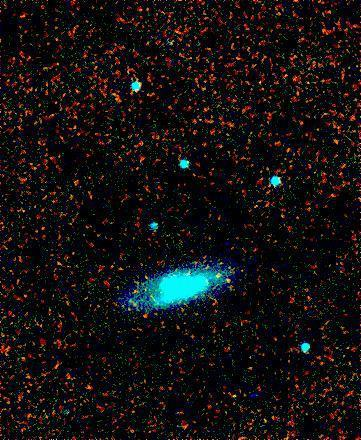star: (212, 265, 242, 295)
